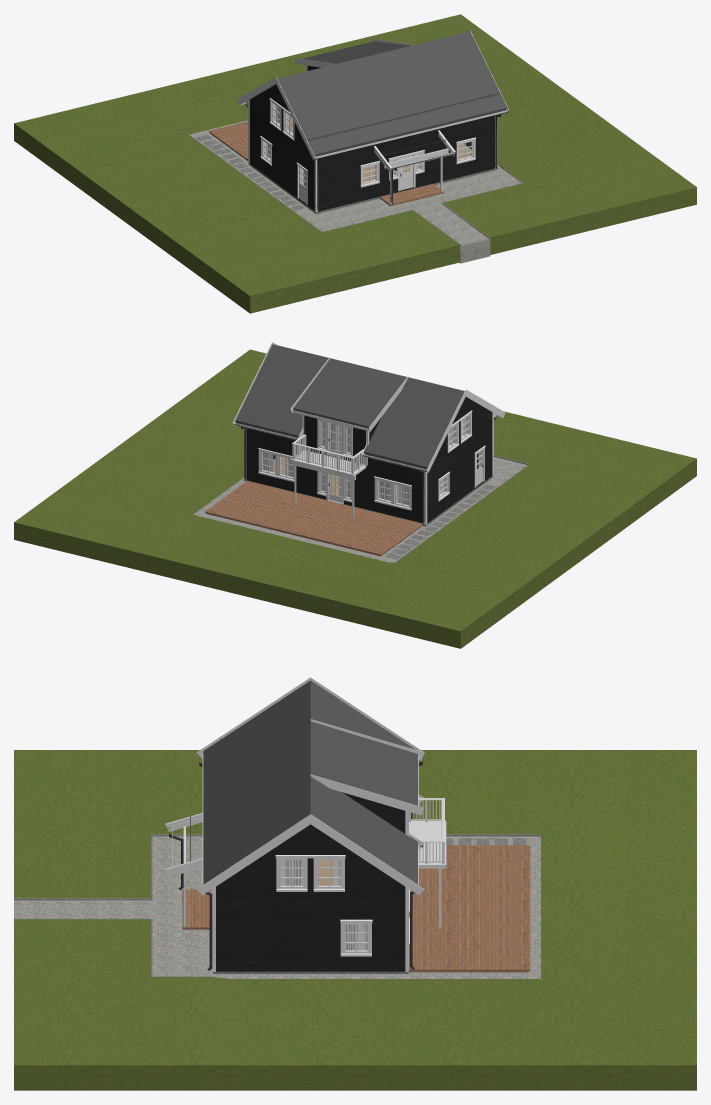
File: Zara_house_FBX.gltf
The picture shows the model from 3 angles, top to bottom: view 1: azimuth 30°, elevation 25°; view 2: azimuth 150°, elevation 25°; view 3: azimuth 270°, elevation 25°; orthographic projection. The views are drawn at different scales.
Parts seen in each view (by area): view 1: GRASS, Roof_metal_rough, Zara_hus_FBX_03_walls, GRAVEL, WOOD_GENERAL, CONCRETE, TERRACE, METAL, ROOF_METAL_ROUGH; view 2: GRASS, Roof_metal_rough, Zara_hus_FBX_03_walls, WOOD_GENERAL, TERRACE, GRAVEL, CONCRETE, METAL; view 3: GRASS, Roof_metal_rough, Zara_hus_FBX_03_walls, TERRACE, GRAVEL, WOOD_GENERAL, CONCRETE, METAL.
Boxes of the visible parts, x1,y1,x2,y2 form: GRASS: [14, 14, 696, 313]; Roof_metal_rough: [277, 32, 506, 156]; Zara_hus_FBX_03_walls: [249, 65, 495, 211]; GRAVEL: [190, 120, 521, 263]; WOOD_GENERAL: [236, 29, 509, 212]; CONCRETE: [188, 133, 523, 245]; TERRACE: [208, 121, 443, 206]; METAL: [245, 93, 507, 212]; ROOF_METAL_ROUGH: [314, 108, 506, 156]; GRASS: [14, 349, 696, 648]; Roof_metal_rough: [235, 344, 464, 469]; Zara_hus_FBX_03_walls: [246, 397, 492, 523]; WOOD_GENERAL: [232, 342, 505, 524]; TERRACE: [205, 481, 423, 556]; GRAVEL: [193, 457, 527, 562]; CONCRETE: [245, 455, 529, 562]; METAL: [234, 416, 496, 524]; GRASS: [14, 750, 696, 1090]; Roof_metal_rough: [203, 680, 417, 884]; Zara_hus_FBX_03_walls: [216, 792, 405, 971]; TERRACE: [182, 845, 530, 972]; GRAVEL: [14, 836, 540, 978]; WOOD_GENERAL: [165, 677, 446, 971]; CONCRETE: [14, 834, 540, 976]; METAL: [169, 737, 423, 970].
Size of what is drawn, in the model's own units: 29.38 by 8.27 by 26.9.
Materials: 11 (10 with a texture image).
